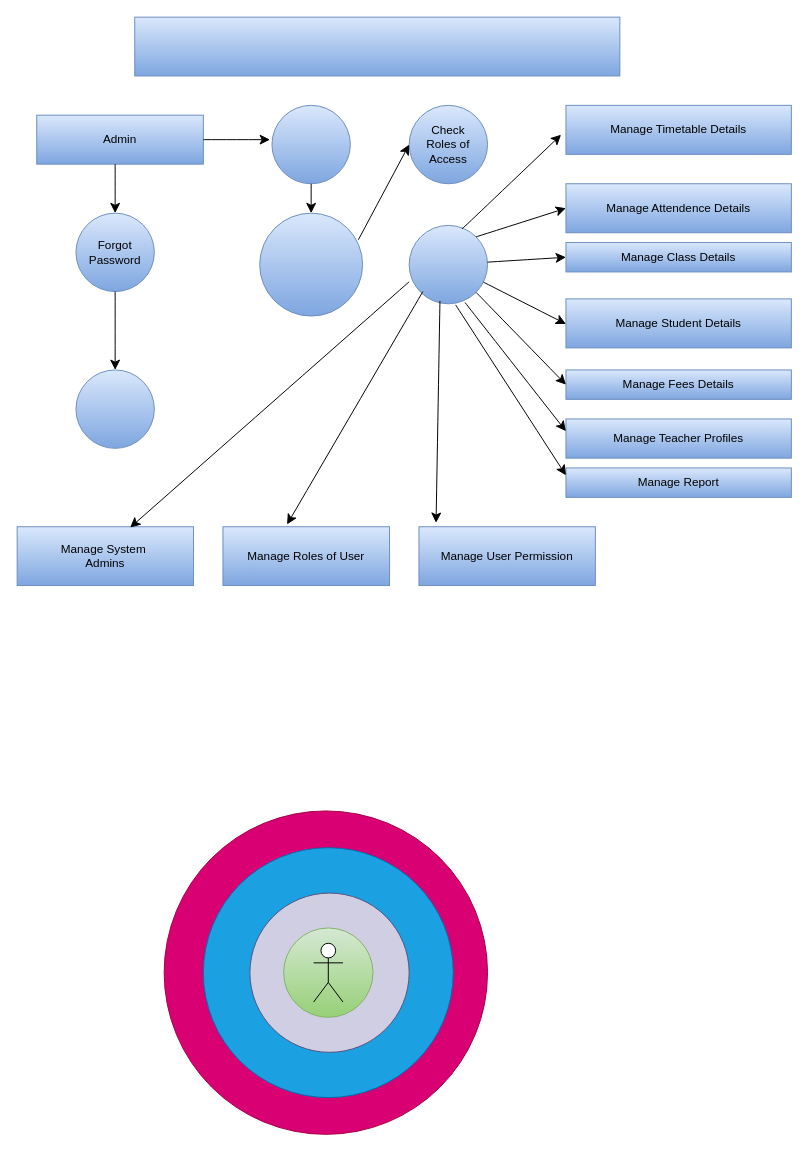
Some shapes in this 809 by 1152 pixel diagram are drawn without their labels. The centre of each missing label's shape, as x and y in pixels:
Actor: the point at 328,972
Check Credentiais: the point at 311,264
Login to System: the point at 310,144
Manage Modules: the point at 448,264
Send Email to User: the point at 114,408
Student Information System: the point at 377,46
